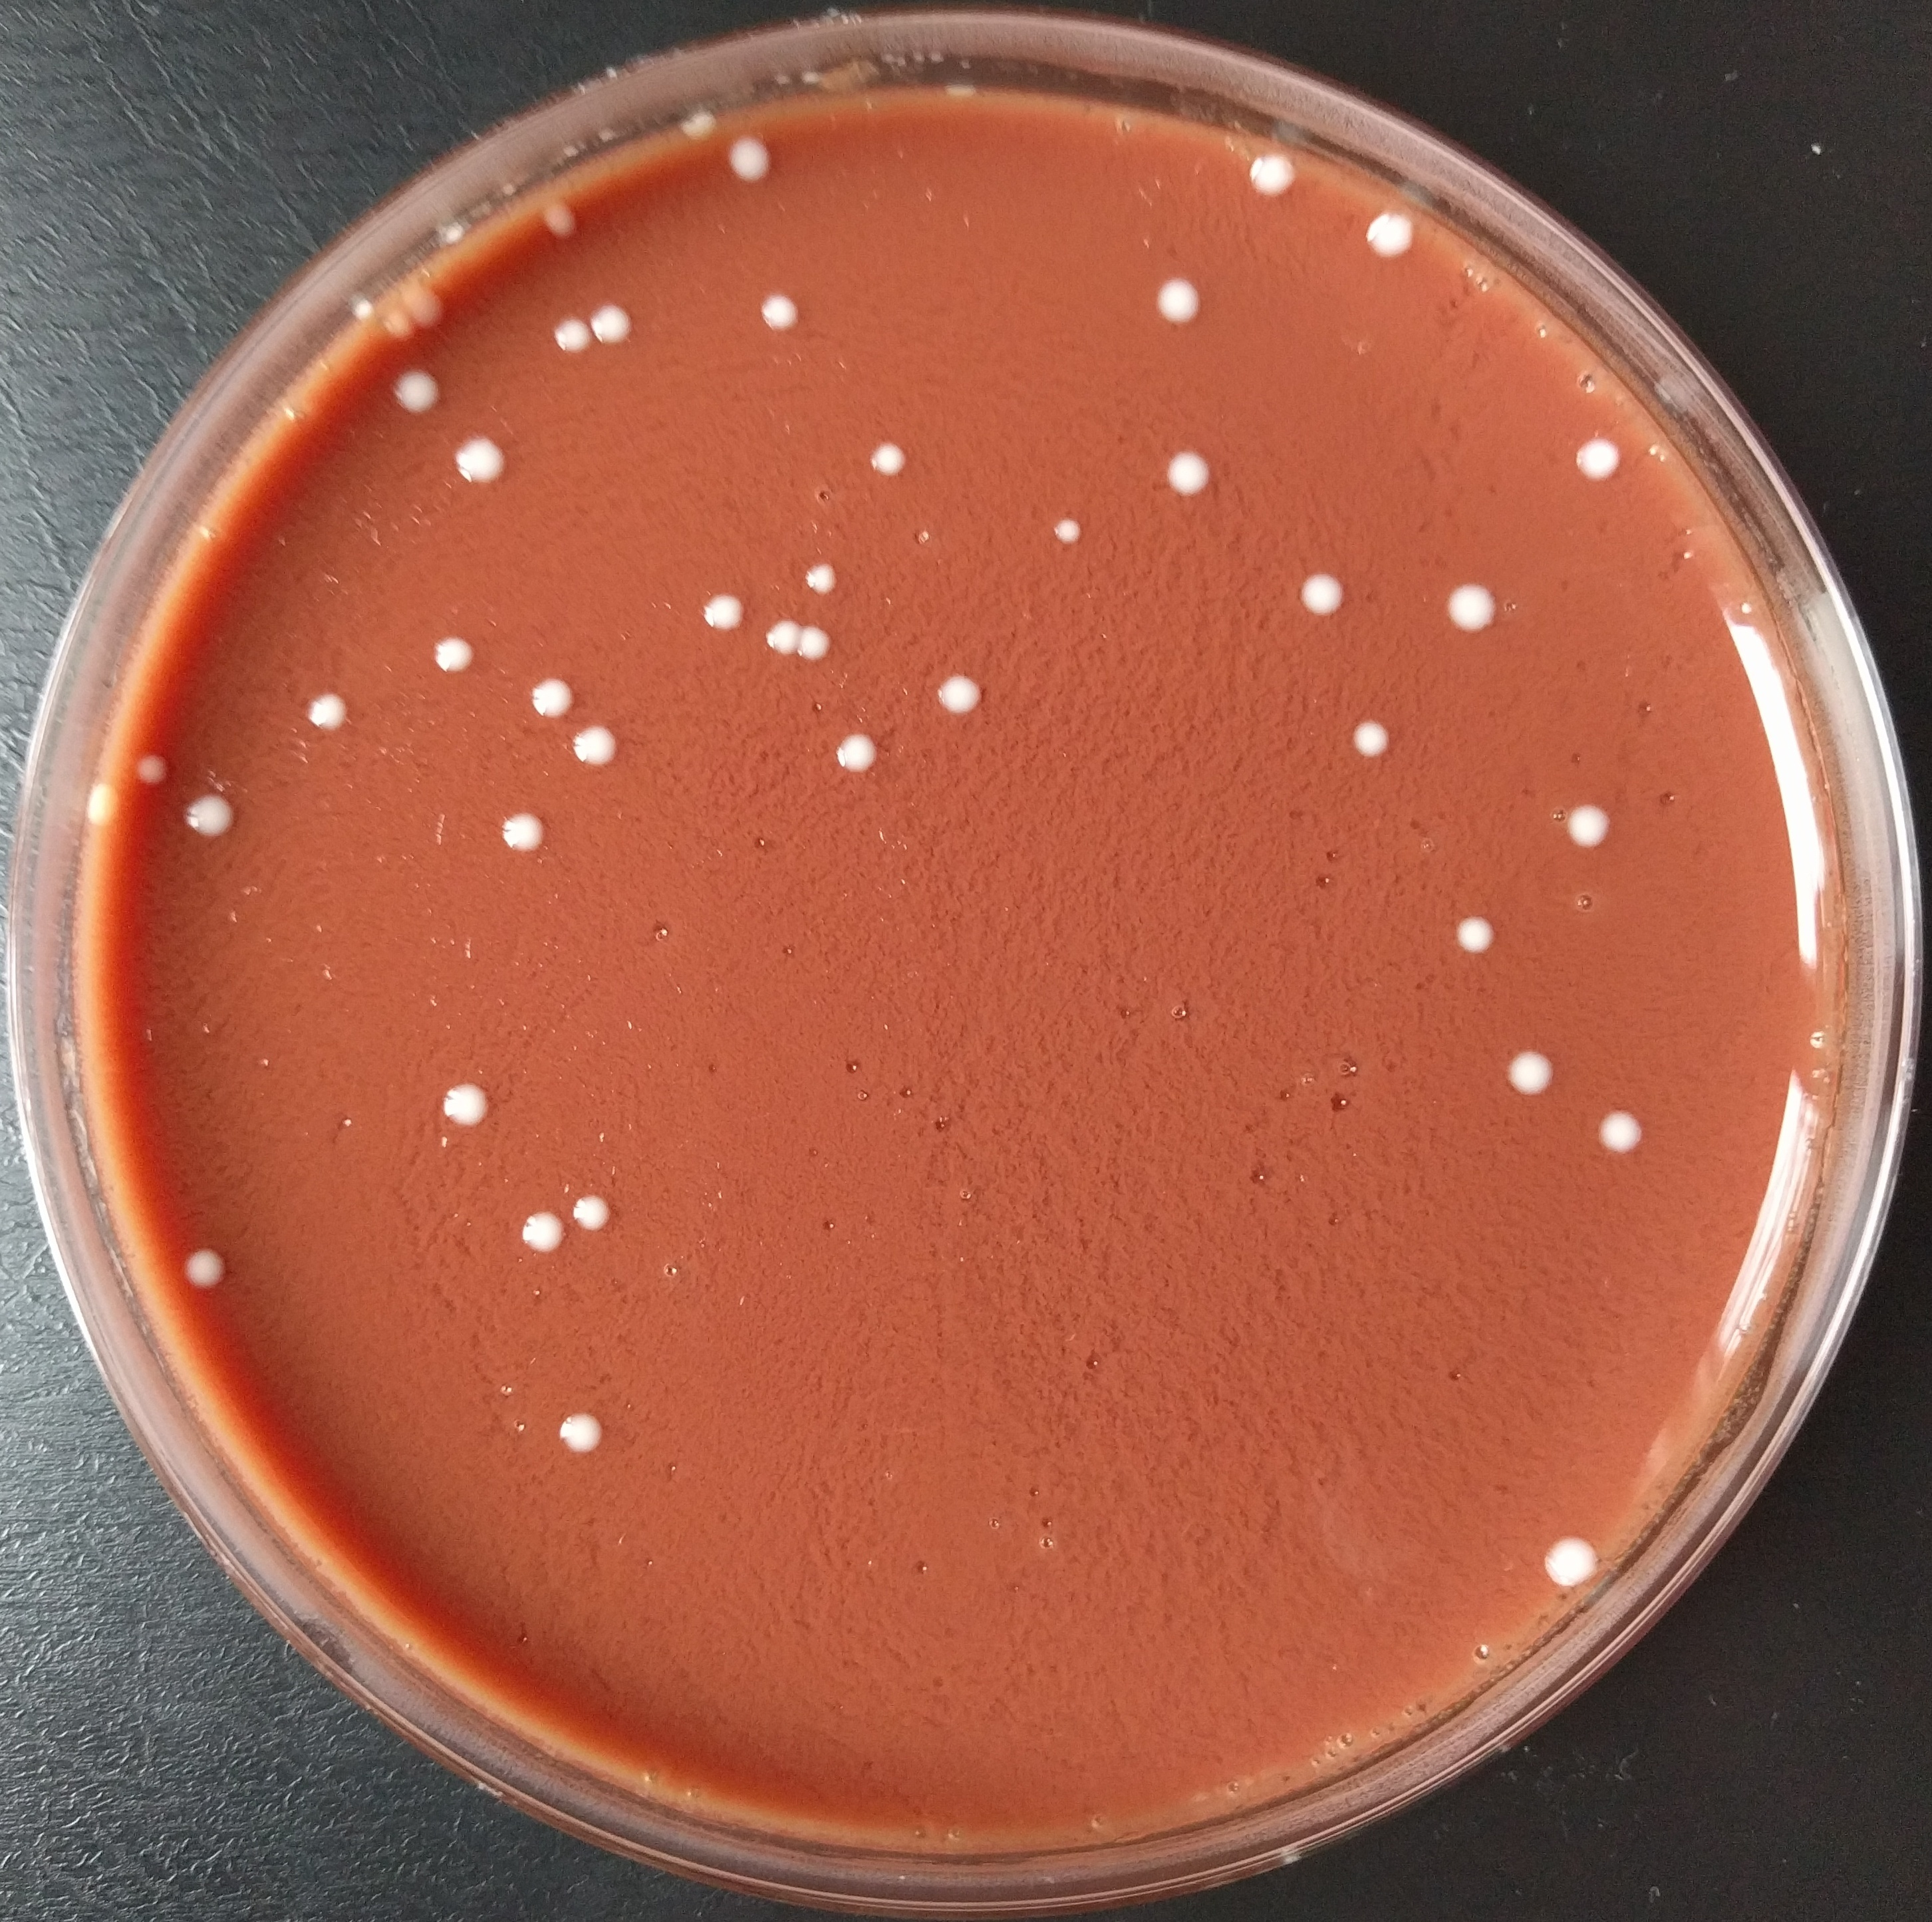sp12: (421, 1063, 507, 1137), (1427, 570, 1510, 637), (1239, 139, 1313, 213), (1584, 1093, 1661, 1163), (421, 620, 487, 701), (1559, 435, 1642, 500), (442, 419, 517, 489), (162, 1234, 238, 1304), (1284, 561, 1362, 630), (558, 718, 639, 781), (720, 120, 779, 204), (931, 658, 998, 732), (292, 672, 366, 739), (589, 282, 649, 361), (1548, 790, 1628, 850), (822, 722, 892, 789), (382, 366, 457, 428), (1534, 1519, 1605, 1584), (1151, 268, 1221, 329), (487, 801, 551, 864), (1158, 445, 1223, 507), (1499, 1040, 1559, 1107), (507, 1200, 570, 1262), (181, 787, 241, 847), (1341, 711, 1404, 766), (788, 551, 866, 595), (537, 308, 596, 364), (757, 278, 813, 338), (852, 433, 918, 482), (394, 285, 468, 329), (549, 1405, 616, 1452), (77, 767, 118, 841), (1360, 213, 1425, 259), (1443, 912, 1501, 963), (686, 590, 748, 637), (667, 100, 730, 144), (757, 609, 809, 660), (132, 732, 172, 796), (795, 623, 853, 667), (530, 676, 582, 723), (572, 1185, 616, 1241), (533, 192, 586, 236), (1056, 505, 1086, 561), (378, 308, 419, 345), (436, 220, 475, 255), (345, 290, 375, 331)
